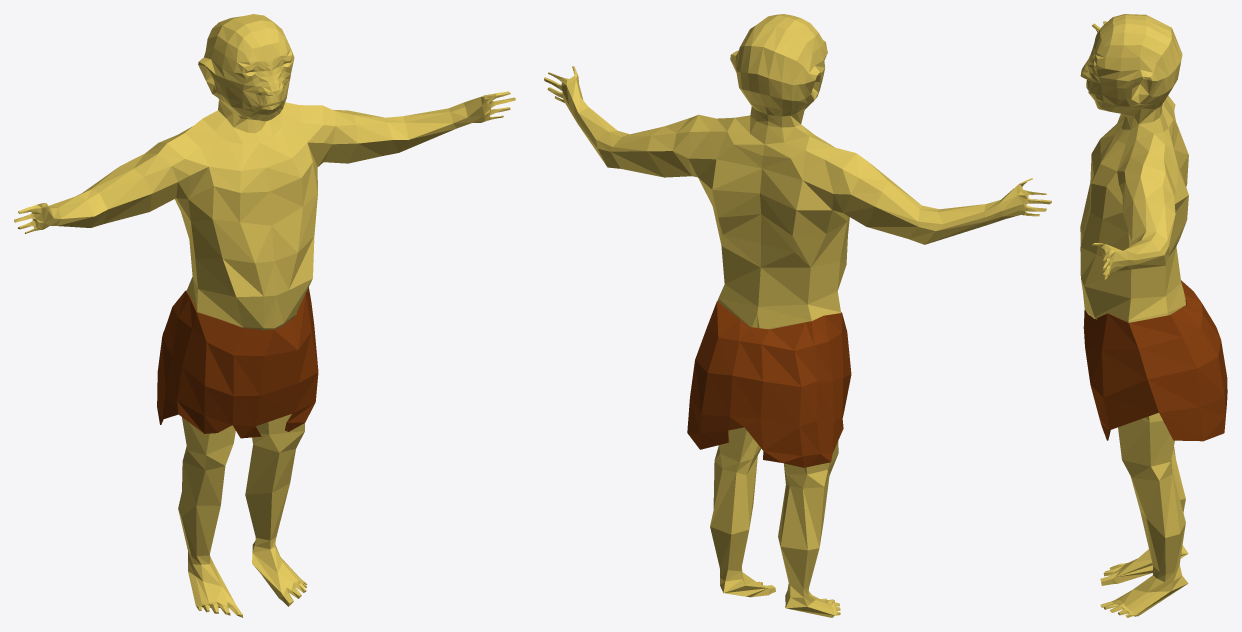
The model's file is Chracter.obj.
The picture shows the model from 3 angles, left to right: view 1: azimuth 30°, elevation 25°; view 2: azimuth 150°, elevation 25°; view 3: azimuth 270°, elevation 25°; orthographic projection.
Parts seen in each view (by area): view 1: Body_reto, Cloth_reto; view 2: Body_reto, Cloth_reto; view 3: Body_reto, Cloth_reto.
Boxes of the visible parts, bbox=[...] form: Body_reto: bbox=[14, 14, 515, 617]; Cloth_reto: bbox=[157, 287, 318, 438]; Body_reto: bbox=[544, 14, 1051, 617]; Cloth_reto: bbox=[687, 300, 851, 467]; Body_reto: bbox=[1080, 14, 1188, 617]; Cloth_reto: bbox=[1083, 280, 1227, 441].
Size of the model in its own units: 8.93 by 9.92 by 2.29.
